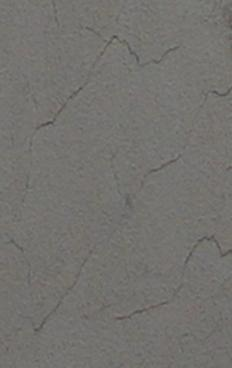fissura: (18, 26, 180, 156), (110, 212, 232, 368), (4, 212, 96, 368), (136, 79, 228, 214)
